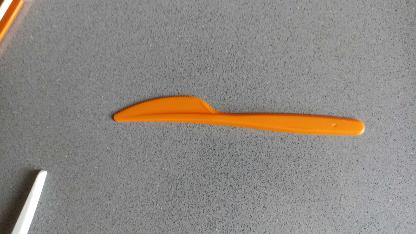Others: (106, 92, 368, 146)
